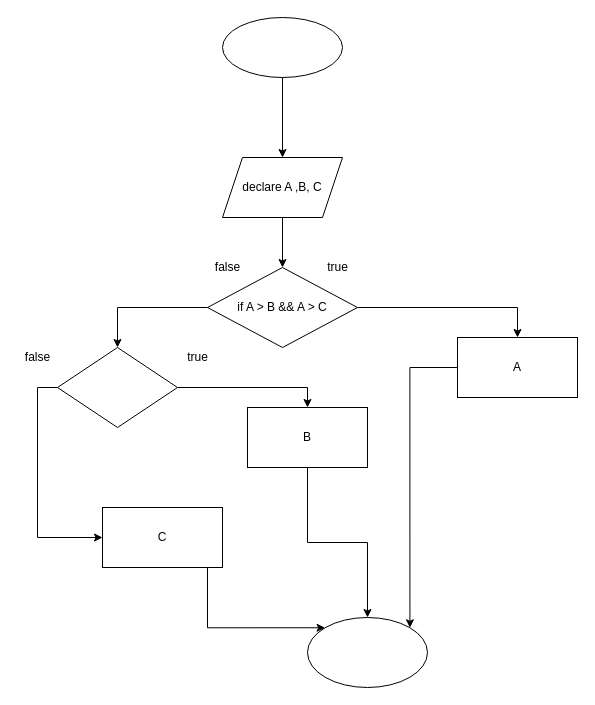
Image size: 595x705. Some labels were removed from this diagram. The shapes that lost their labels are listed below. From the top down, each one's centre as x and y in pixels, then its label:
the point at 282,47: Start
the point at 117,387: if B > C
the point at 367,652: stop
